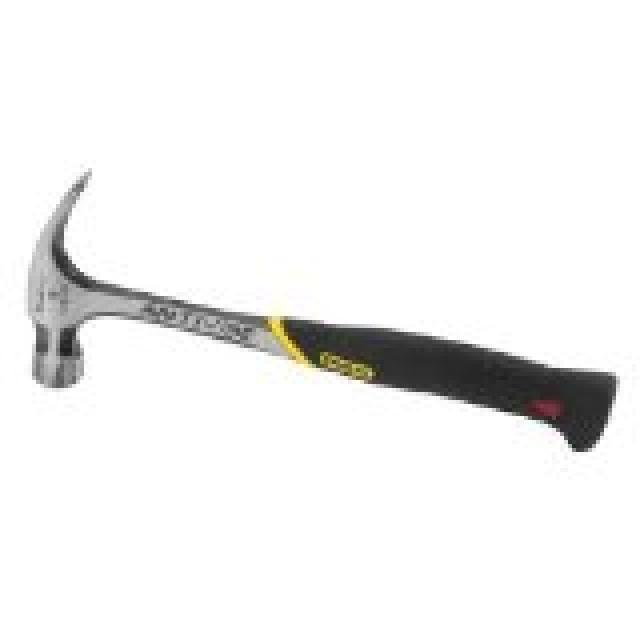hammer: (0, 153, 634, 469)
